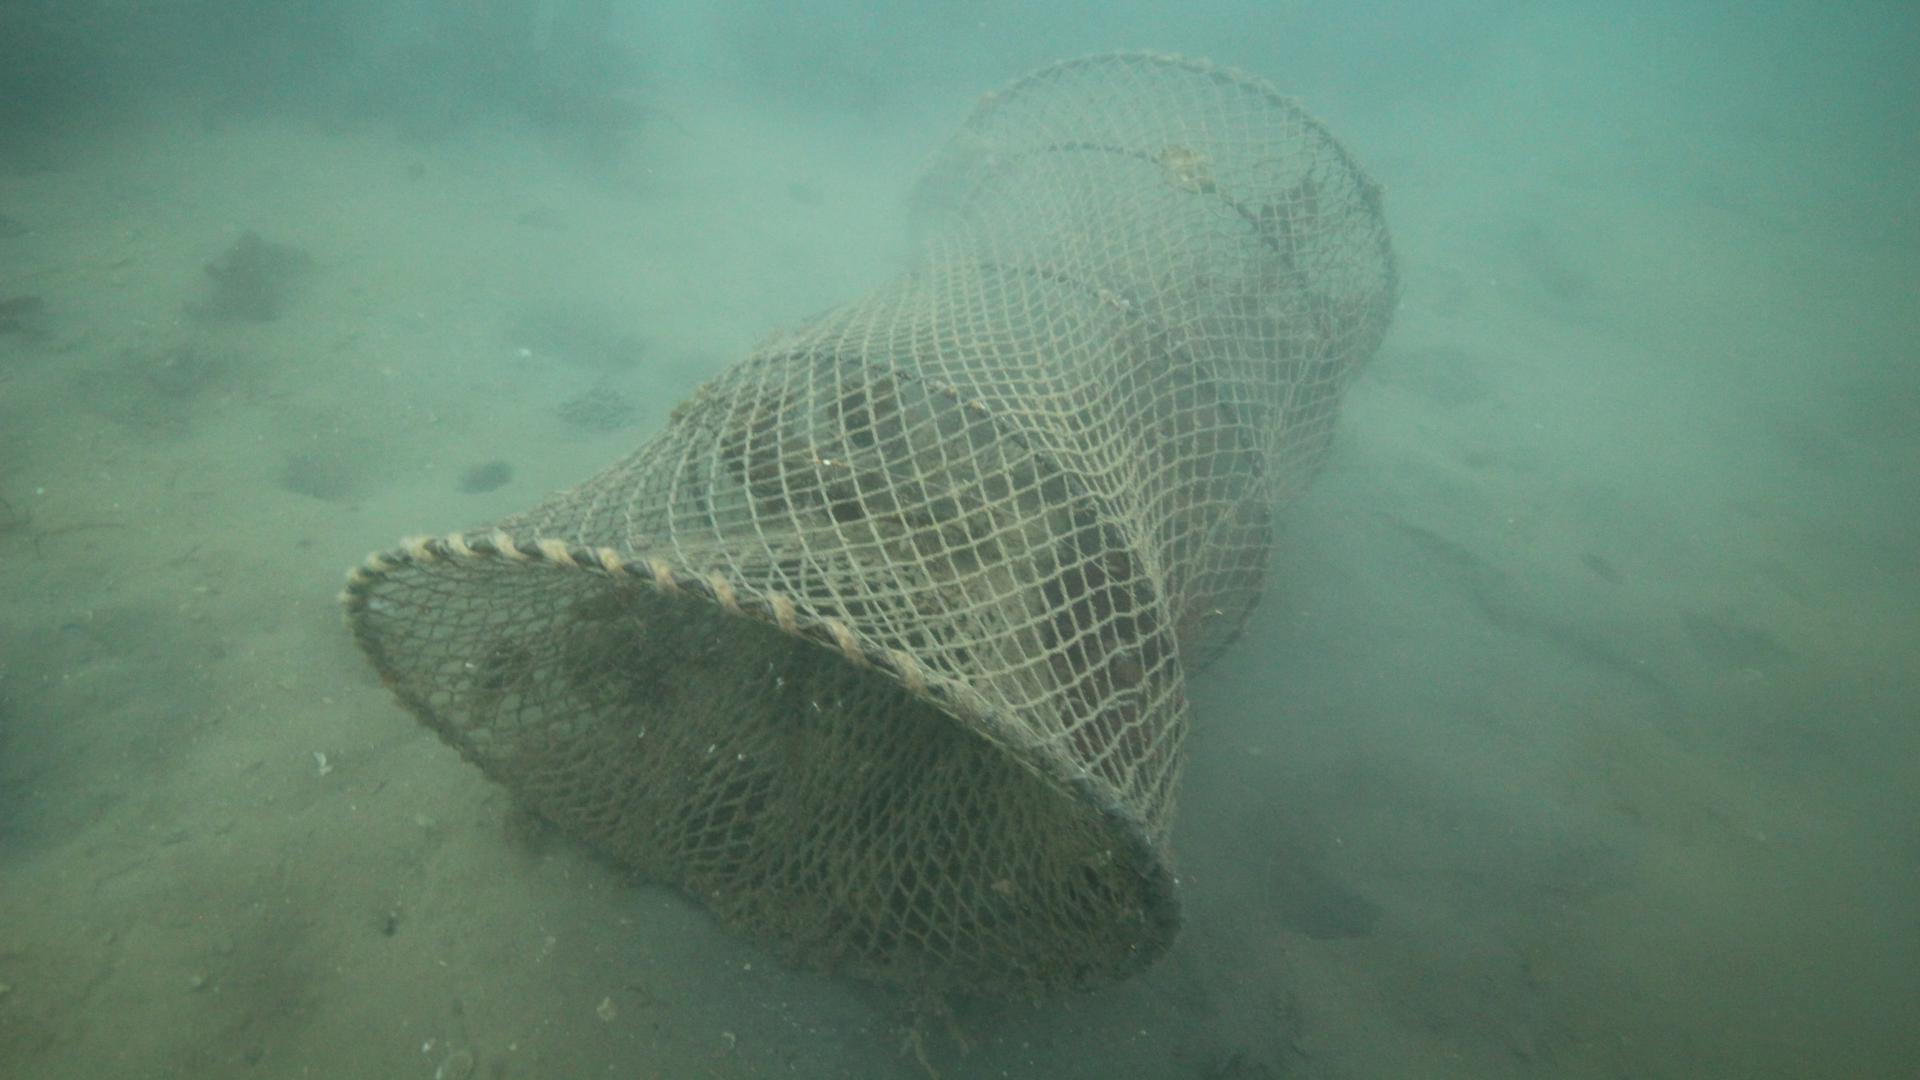spring fish trap: (338, 47, 1398, 1000)
